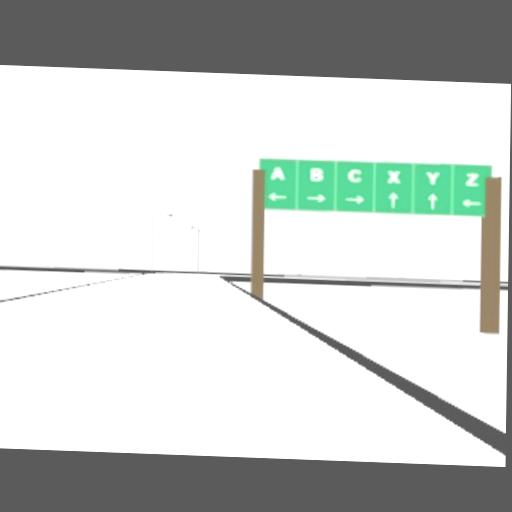A: (270, 164, 284, 179)
B: (309, 166, 323, 180)
C: (348, 167, 362, 181)
Left: (268, 190, 287, 201), (461, 197, 480, 206)
Right: (344, 193, 365, 204), (307, 191, 326, 202)
Straight: (387, 189, 398, 208), (427, 191, 437, 209)
X: (386, 169, 400, 182)
Y: (425, 170, 439, 184)
Z: (465, 172, 479, 185)
